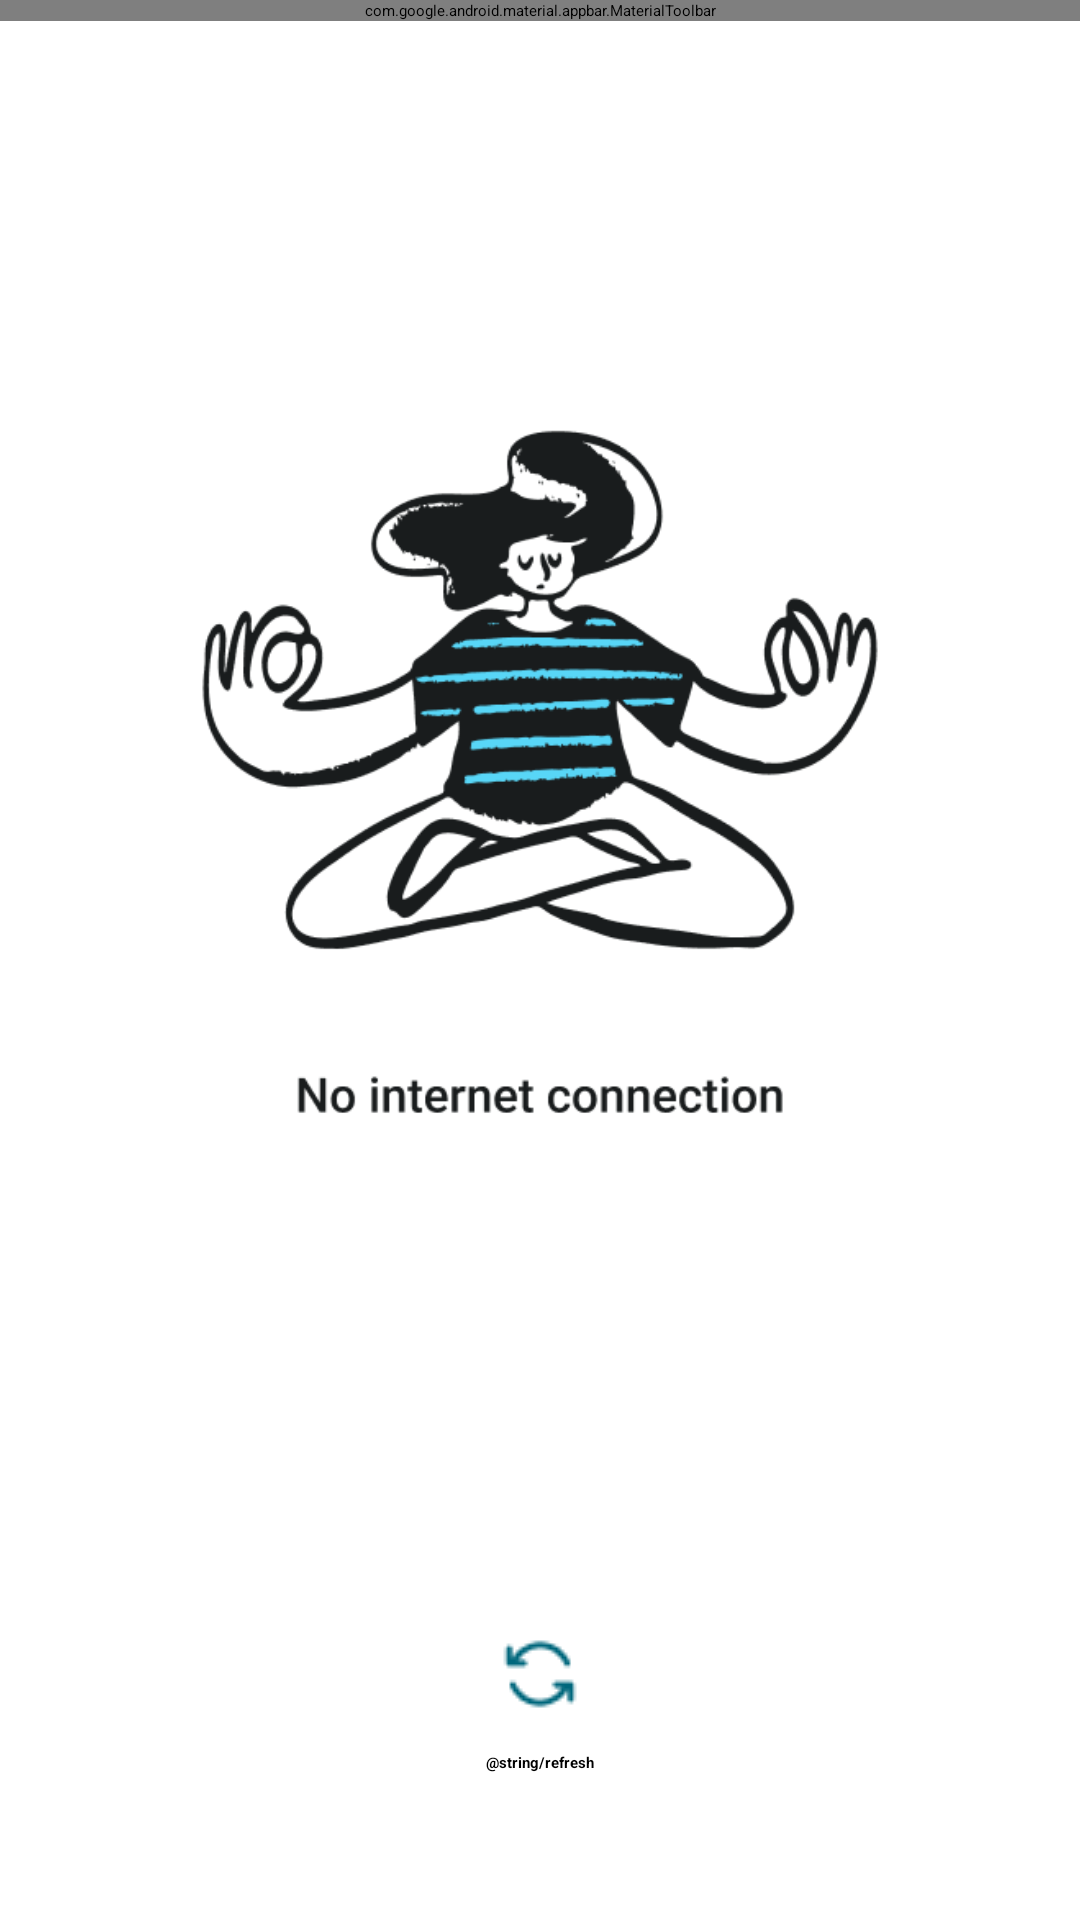

Named icons in this screenshot (1080px×1920px) and their centers, [x,y]:
refresh connection: [540,1674]
